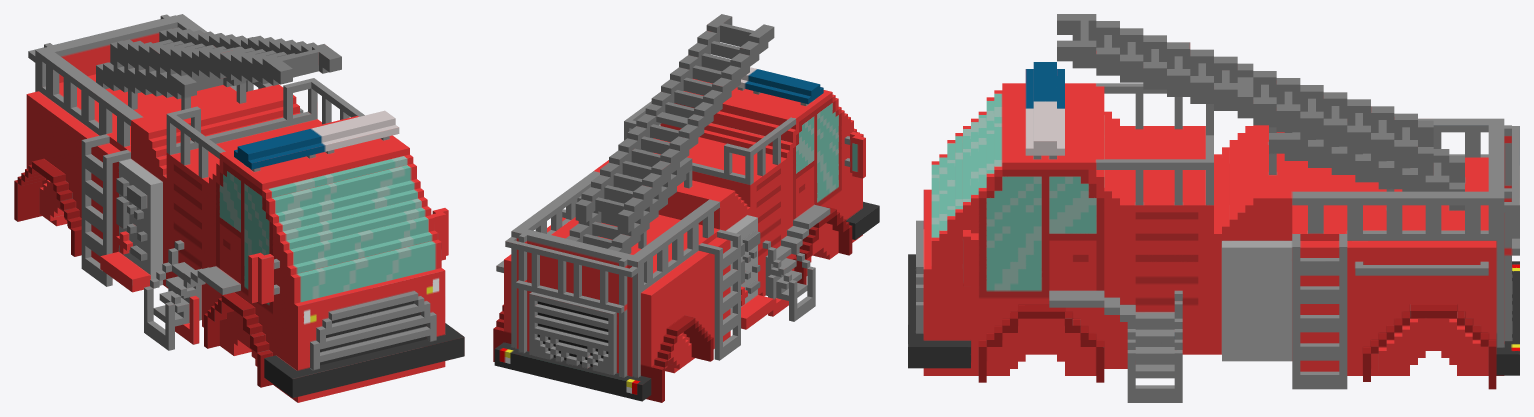
The model's file is Firetruck.obj.
The picture shows the model from 3 angles, left to right: view 1: azimuth 30°, elevation 25°; view 2: azimuth 150°, elevation 25°; view 3: azimuth 270°, elevation 25°; orthographic projection. The views are drawn at different scales.
Visible parts, largest first — view 1: Firetruck_Firetruck.001; view 2: Firetruck_Firetruck.001; view 3: Firetruck_Firetruck.001.
Boxes of the visible parts, x1,y1,x2,y2 form: Firetruck_Firetruck.001: (14, 14, 464, 402); Firetruck_Firetruck.001: (493, 14, 879, 402); Firetruck_Firetruck.001: (908, 14, 1519, 402).
Size of the model in its own units: 3.6 by 4.4 by 7.8.
